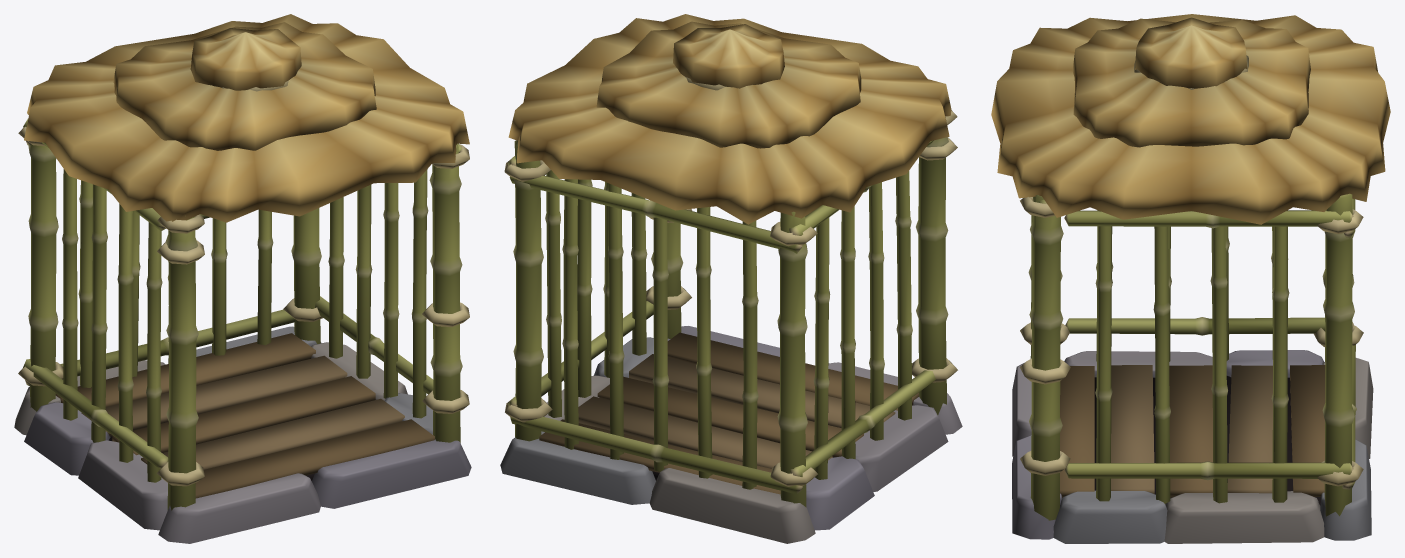
Rendered from prop-siege-cage-v0.glb.
3 renders of one model, left to right at view 1: azimuth 30°, elevation 25°; view 2: azimuth 150°, elevation 25°; view 3: azimuth 270°, elevation 25°, orthographic. The views are drawn at different scales.
Visible parts, largest first — view 1: body; view 2: body; view 3: body.
Boxes of the visible parts, x1=… form: body: x1=14, y1=14, x2=471, y2=543; body: x1=500, y1=14, x2=962, y2=543; body: x1=991, y1=14, x2=1390, y2=543.
Size of the model in its own units: 1.46 by 1.65 by 1.36.
